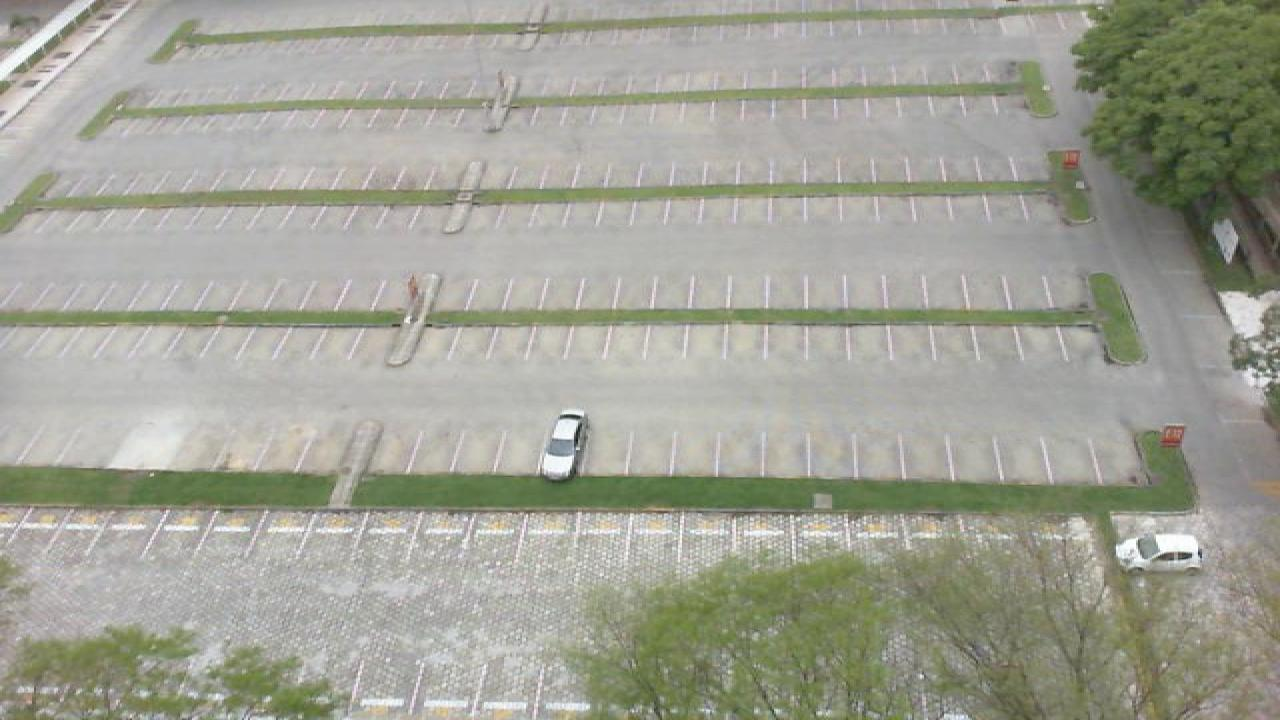Car: (536, 410, 590, 482), (1116, 533, 1202, 573)
